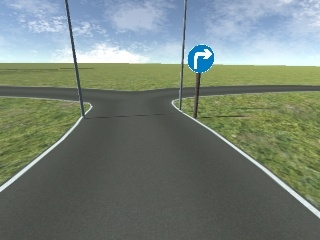TRight: (186, 44, 215, 74)
